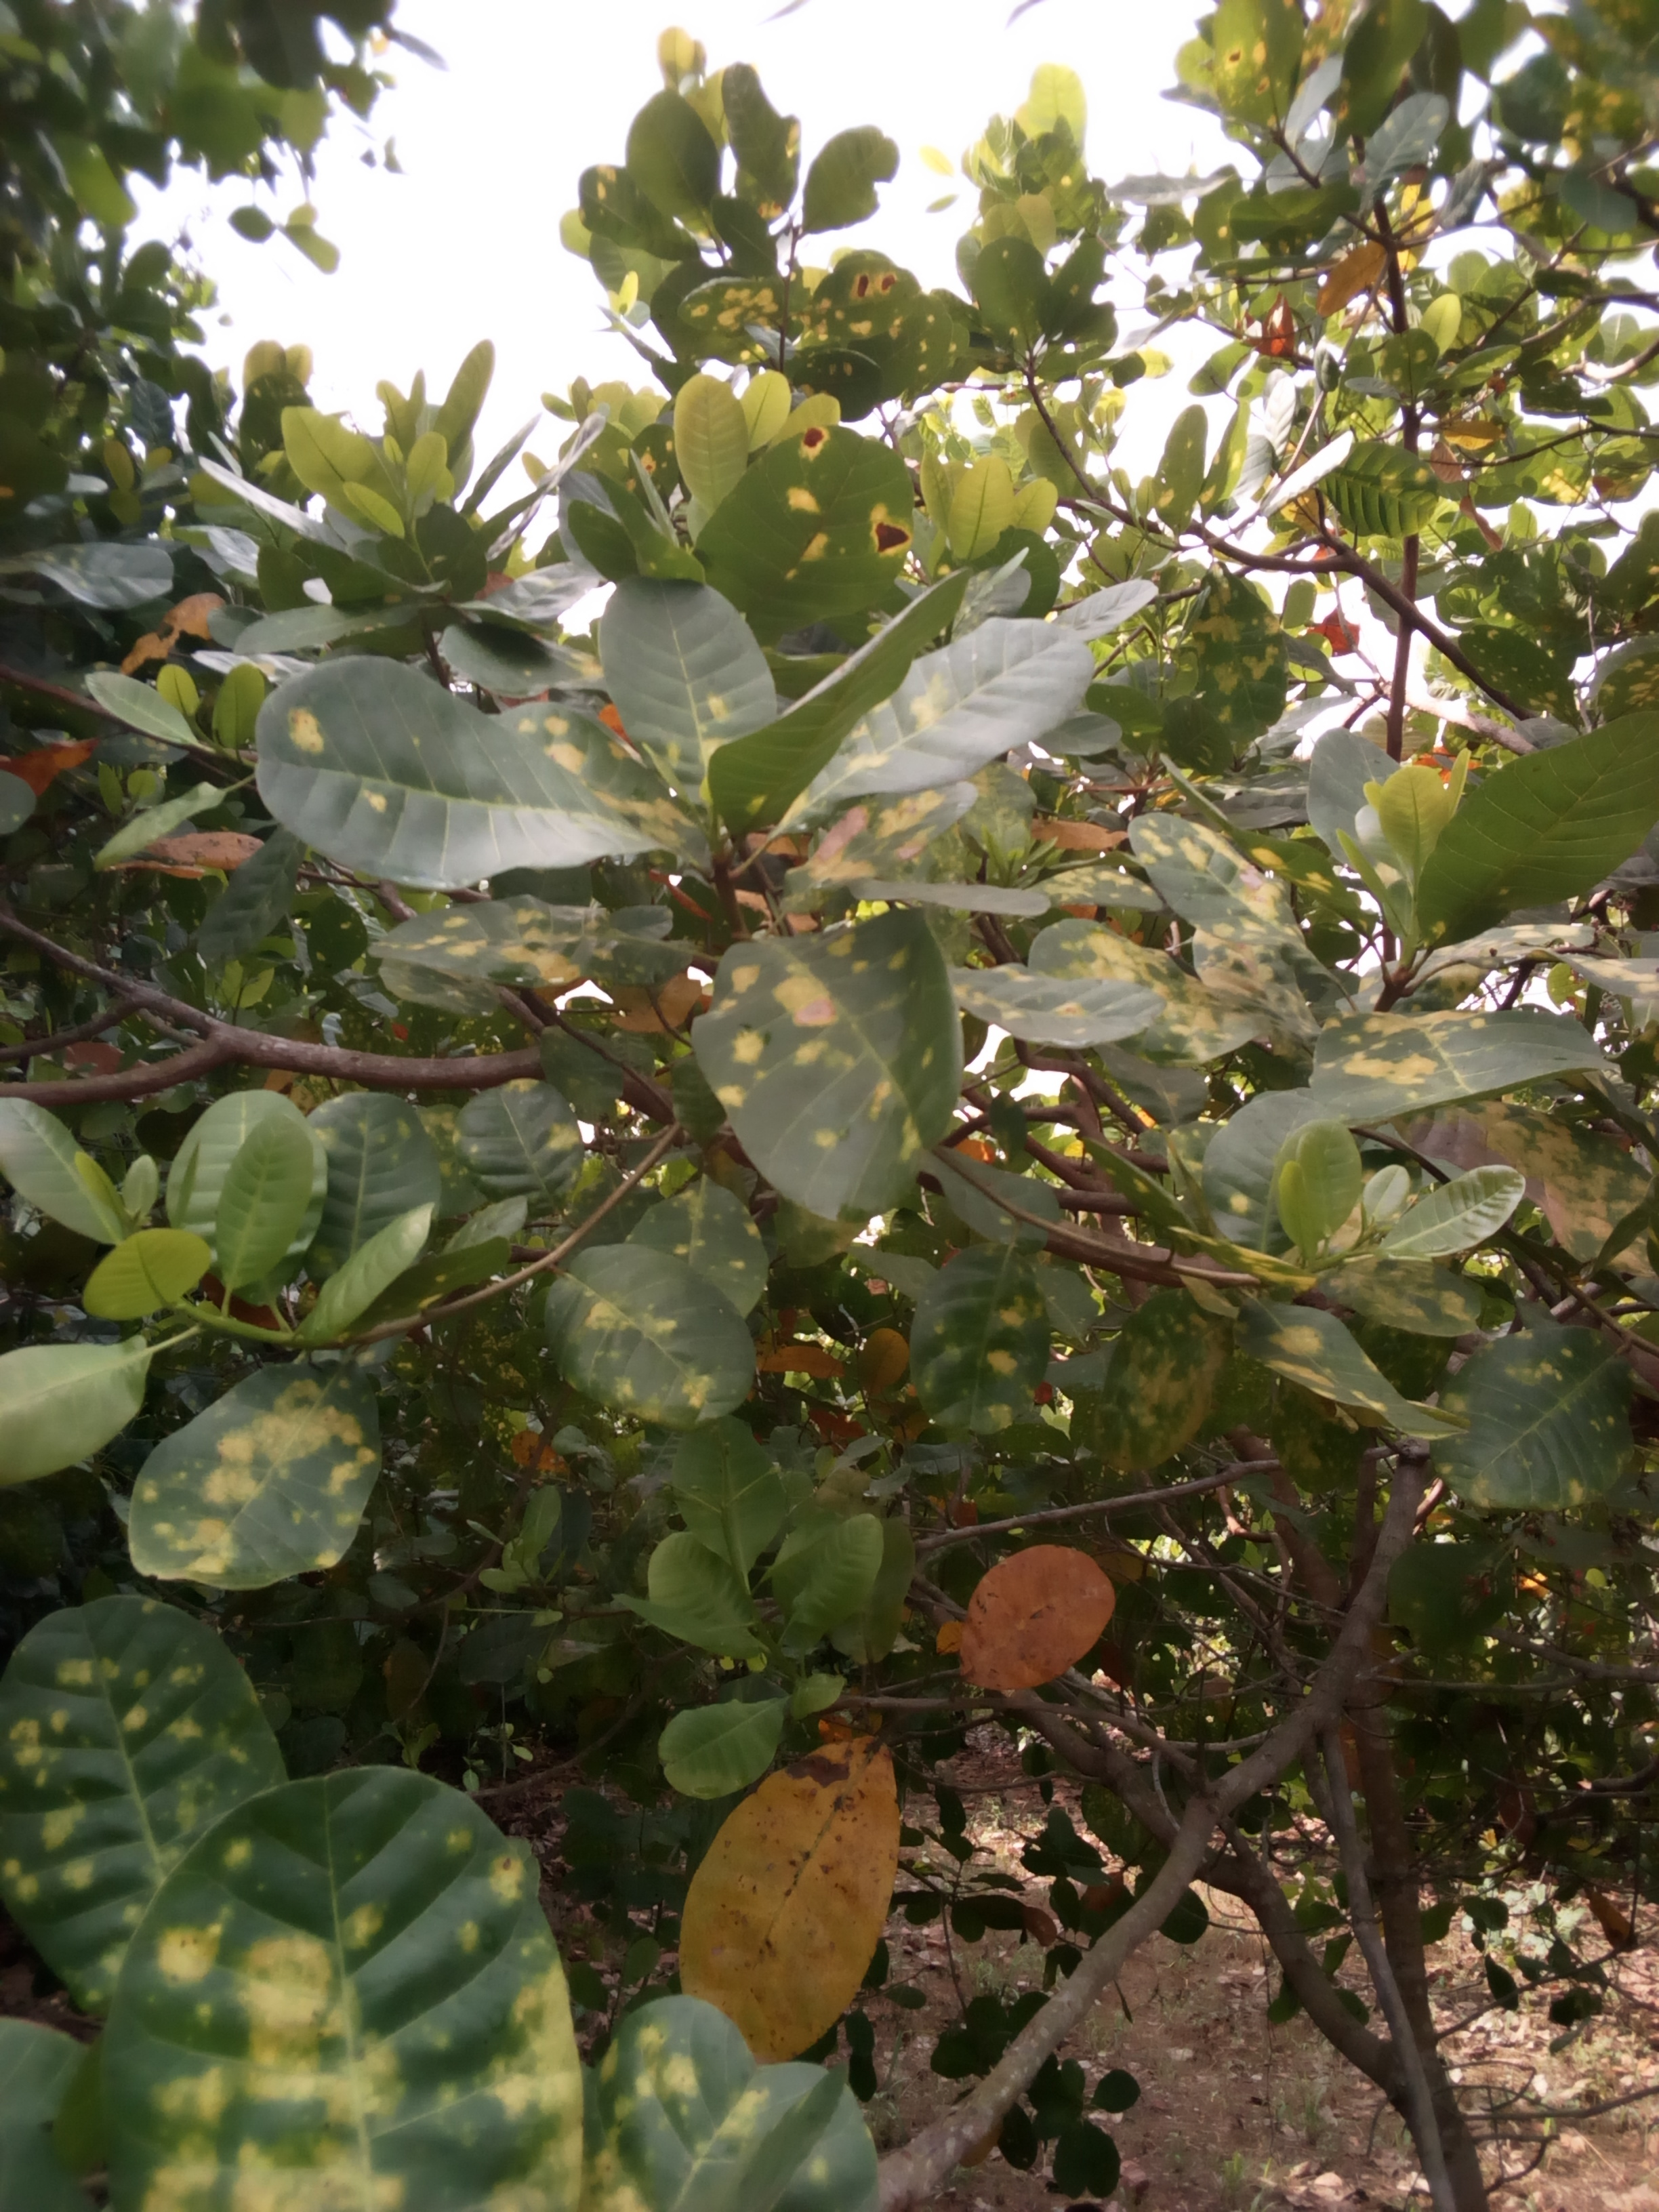Carence minérale: (101, 1759, 636, 2207), (0, 1597, 317, 2010), (244, 651, 674, 895), (683, 895, 965, 1221), (115, 1336, 406, 1594), (596, 1987, 915, 2195), (1415, 1310, 1659, 1519), (1290, 988, 1615, 1130), (1127, 780, 1351, 988), (599, 571, 793, 808), (535, 1264, 775, 1446), (798, 242, 1023, 432), (890, 1238, 1060, 1475), (1077, 1278, 1263, 1479), (291, 1082, 457, 1256), (453, 1059, 593, 1221), (1317, 428, 1471, 554)
